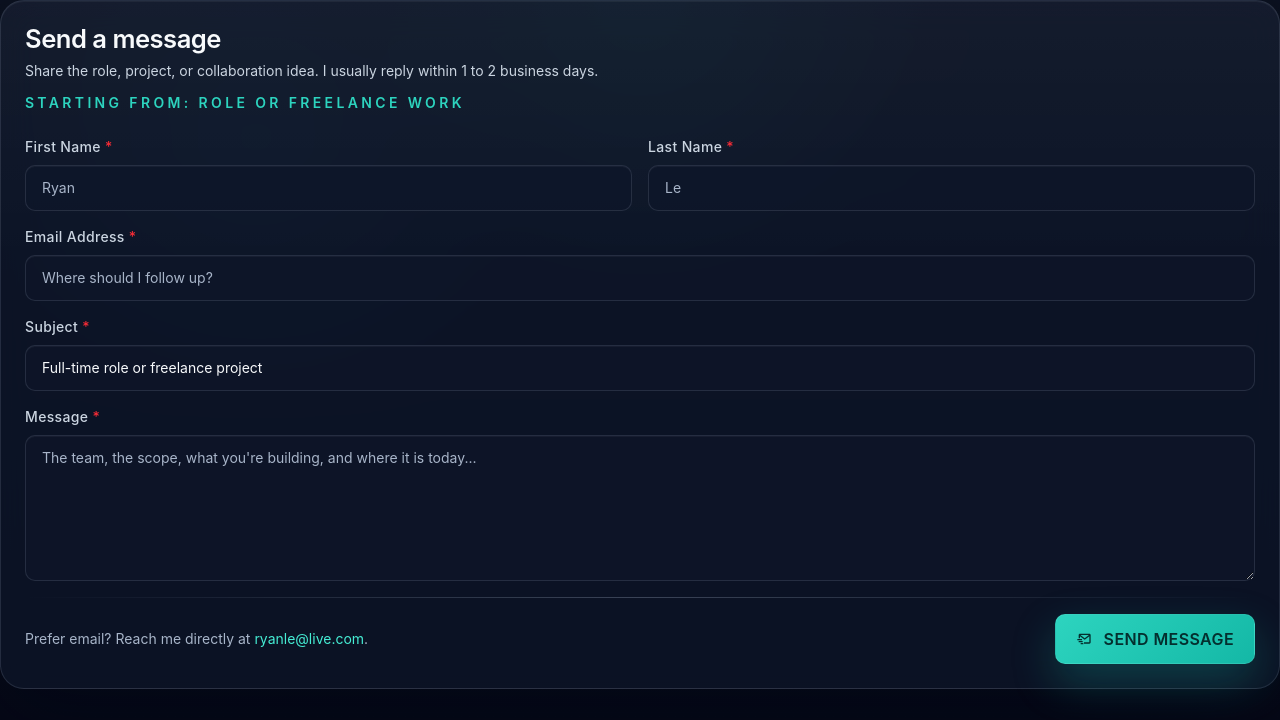
does not accept a message that is too short
Type "Demo" into the field labelled "First Name *" at (328, 188), box x1=25 y1=165 x2=632 y2=211
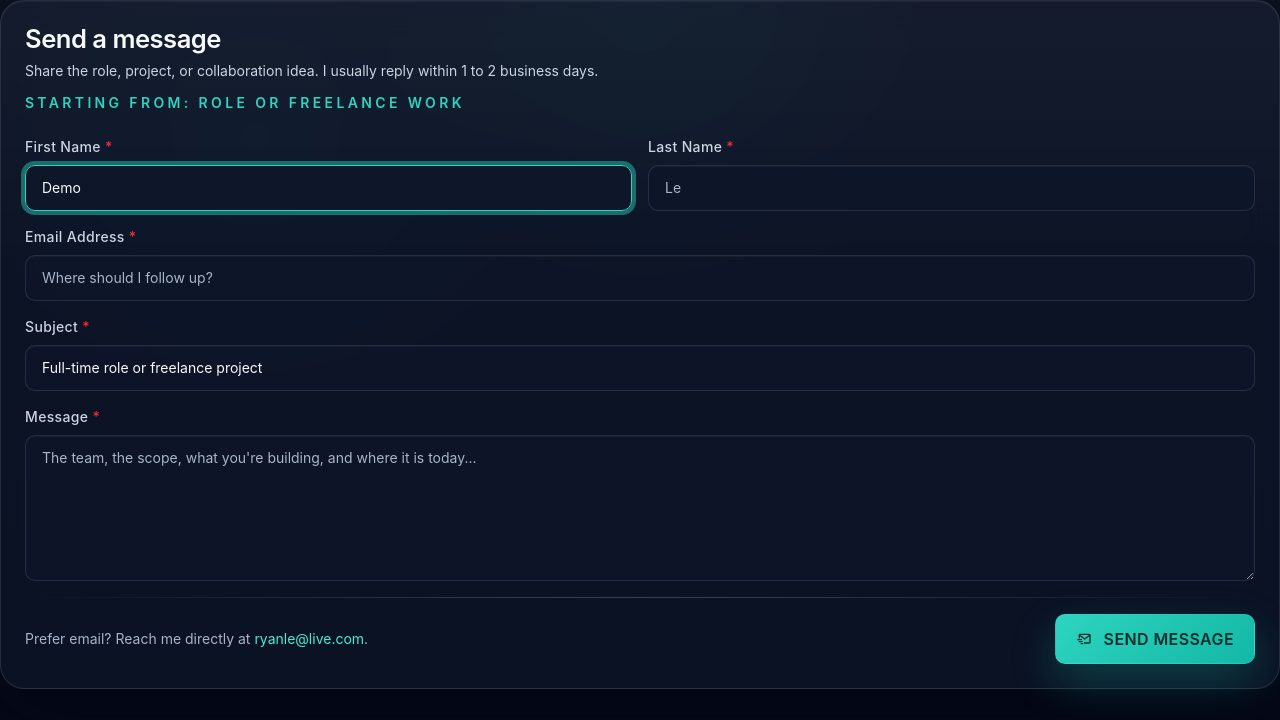
Type "Reviewer" into the field labelled "Last Name *" at (952, 188), box x1=648 y1=165 x2=1255 y2=211
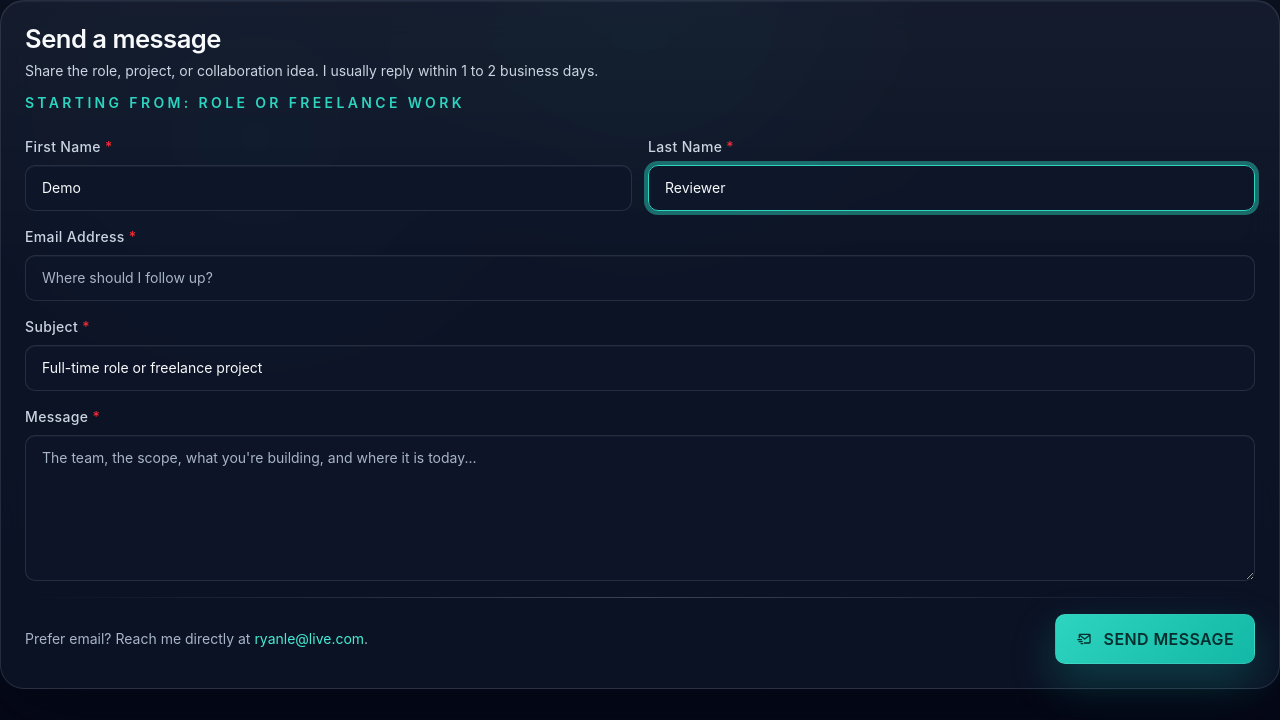
Type "reviewer@example.com" into the field labelled "Email Address *" at (640, 278), box x1=25 y1=255 x2=1255 y2=301
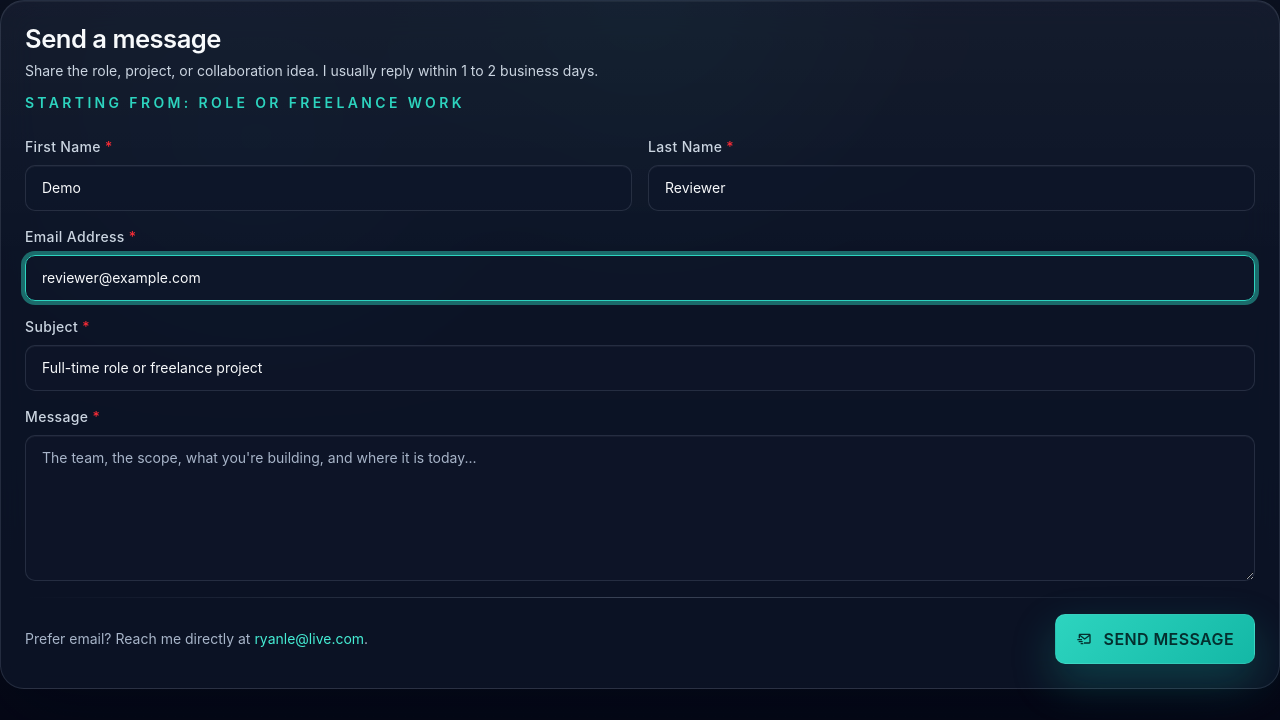
Type "I would like to discuss a frontend project." into the text box labelled "Message *" at (640, 508), box x1=25 y1=435 x2=1255 y2=581
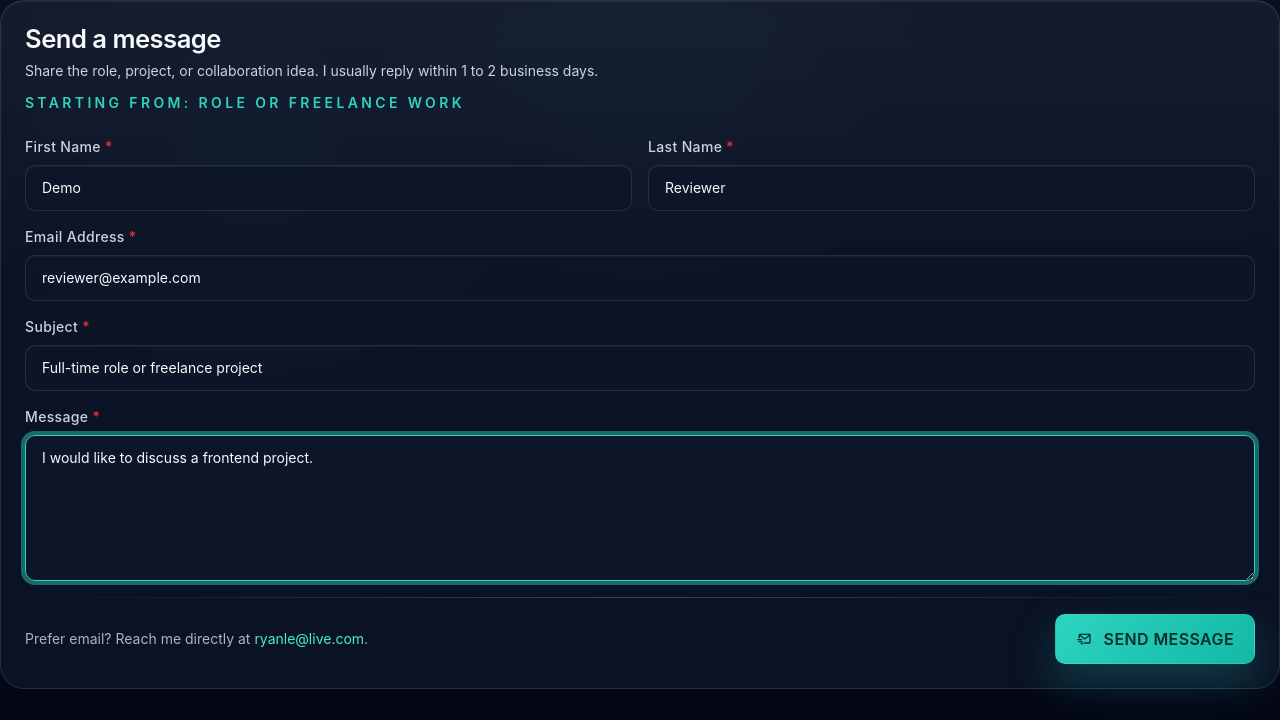
Replace the text in the text box labelled "Message *" with "Too short" at (640, 508), box x1=25 y1=435 x2=1255 y2=581
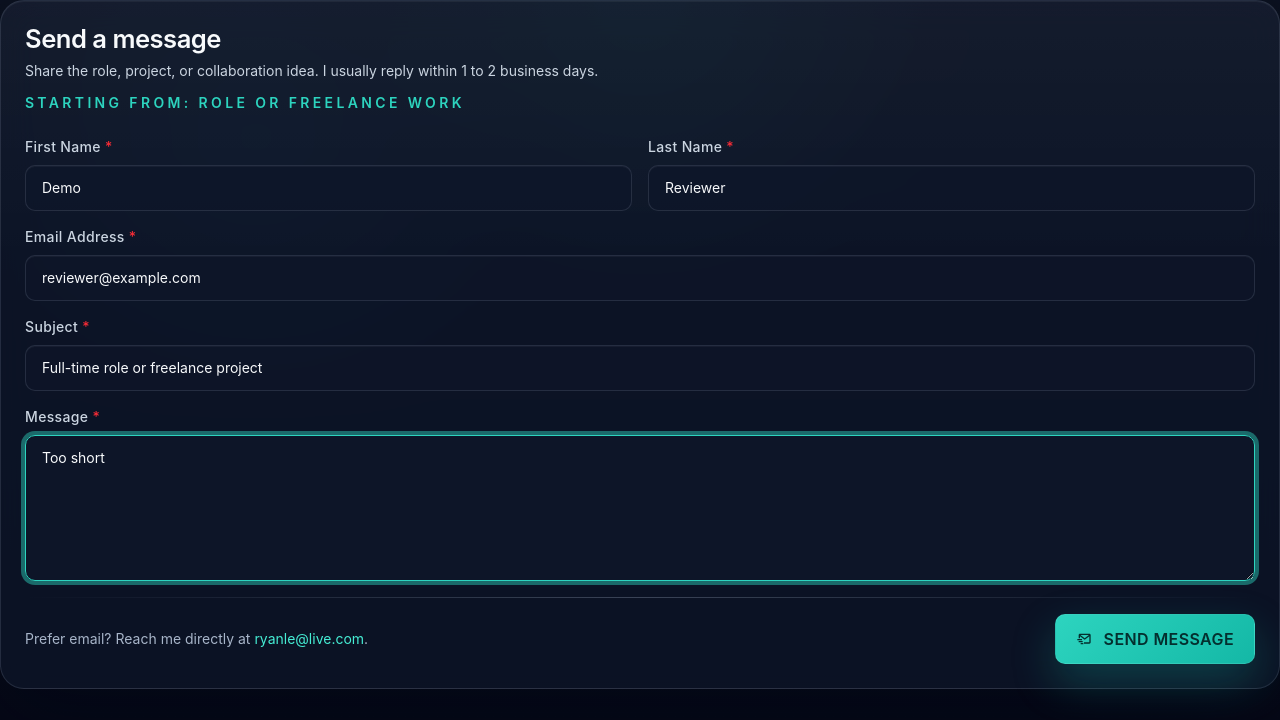
Click the button "Send Message" at (1155, 639), box x1=1055 y1=614 x2=1255 y2=664
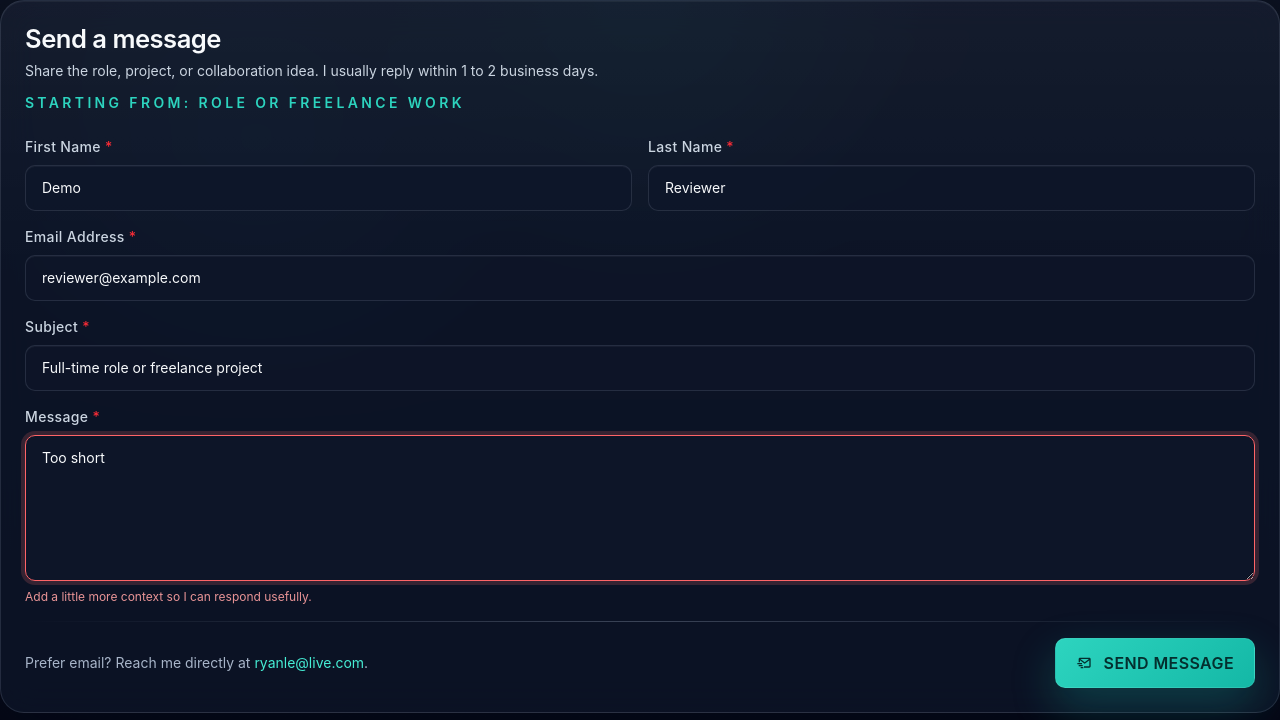
Now the text "Add a little more context so I can respond usefully." is shown, box x1=25 y1=589 x2=312 y2=604
